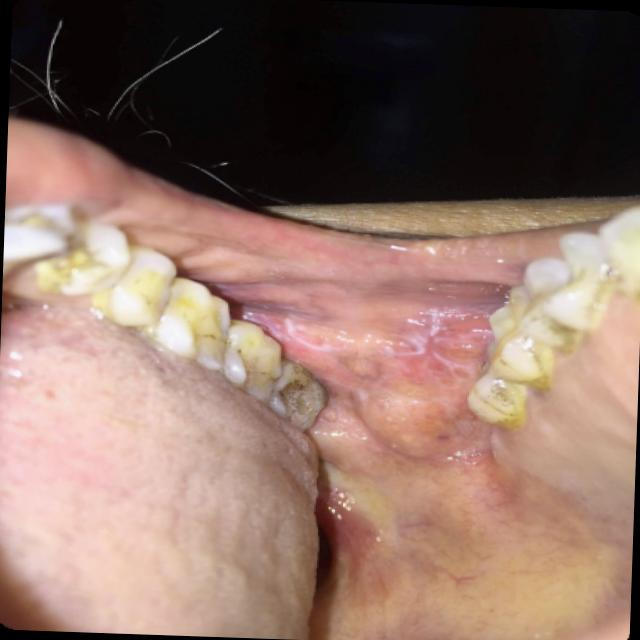Cancer: (257, 273, 509, 455)
